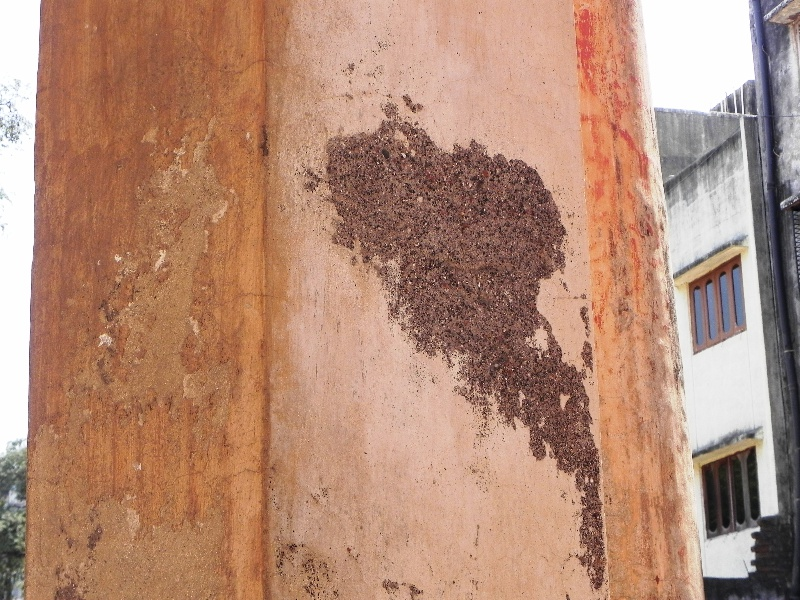Spalling: (306, 105, 610, 581)
